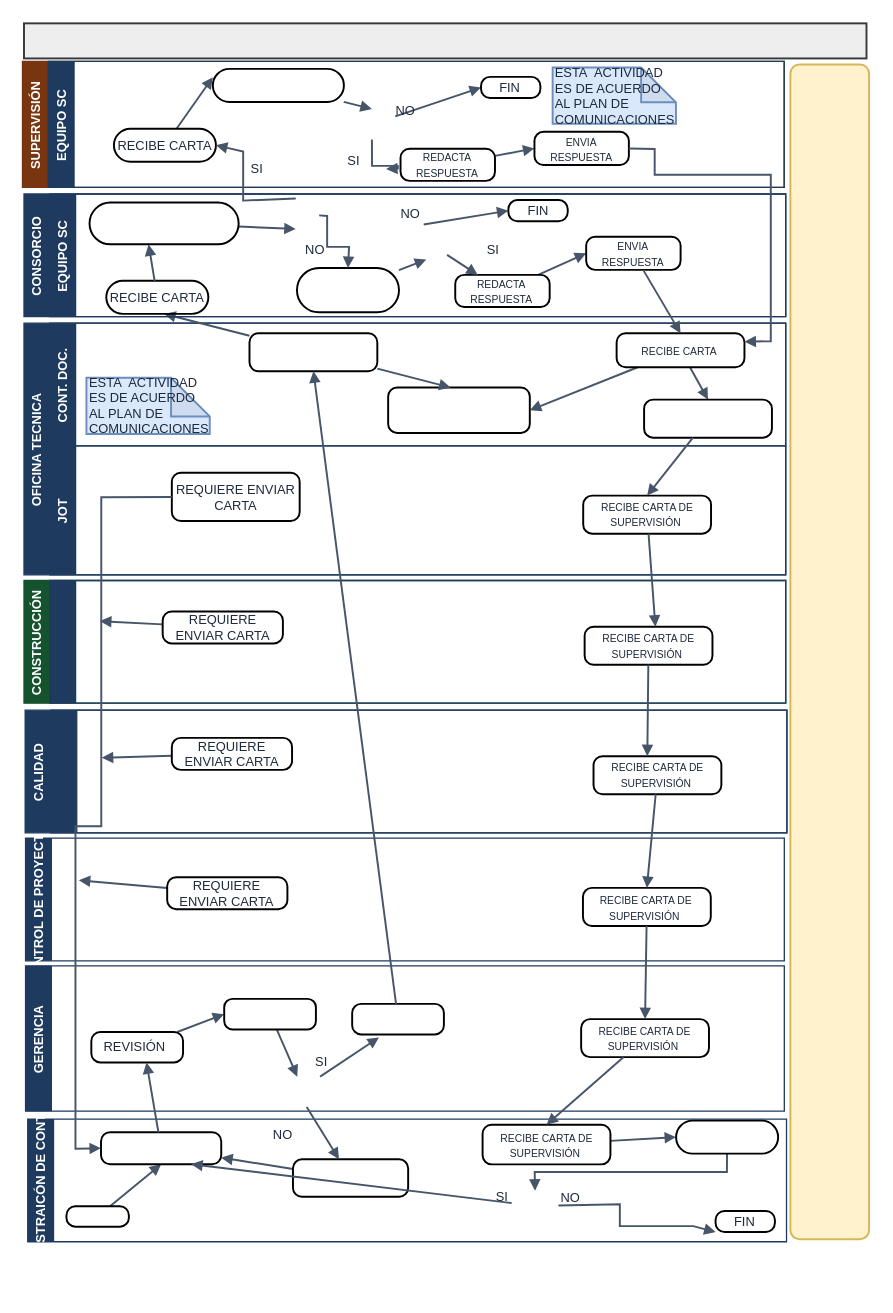
The diagram is 893 pixels wide and 1313 high, and some of its shapes have lost their labels. Each missing label, with the centre of its shape:
"ALMACENA CARTA EN EL SERVIDOR Y ACTUALIZA LOG DE CARTAS" belongs at (458,409).
"APROBACIÓN" belongs at (269,1013).
"CORREGIR CARTA" belongs at (350,1177).
"EVALUA SI NECESITA RESPUESTA" belongs at (277,84).
"FIRMA" belongs at (397,1018).
"FLUJOGRAMA: CARTAS ENVIADAS Y RECIBIDAS DEL CLIENTE - SUPERVISIÓN" belongs at (444,40).
"IDENTIFICA SI DEBE ENVIAR LA CARTA A SUPERVISIÓN" belongs at (163,223).
"IMPLEMENTAR METODOLOGIAS COLOBORATVIVAS" belongs at (829,651).
"INFORMA A TODAS LAS AREAS DEL PROYECTO" belongs at (707,418).
"INICIO" belongs at (97,1216).
"NECESITA RESPUESTA" belongs at (727,1136).
"REDACTAR CARTA" belongs at (160,1148).
"REGISTRO Y ENVIO DE CARTA" belongs at (313,352).
"VALIDA SI NECESITA RESPUESTA" belongs at (347,290).
